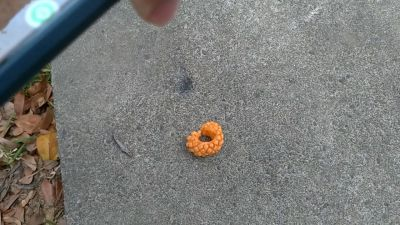eggs: (184, 120, 225, 160)
